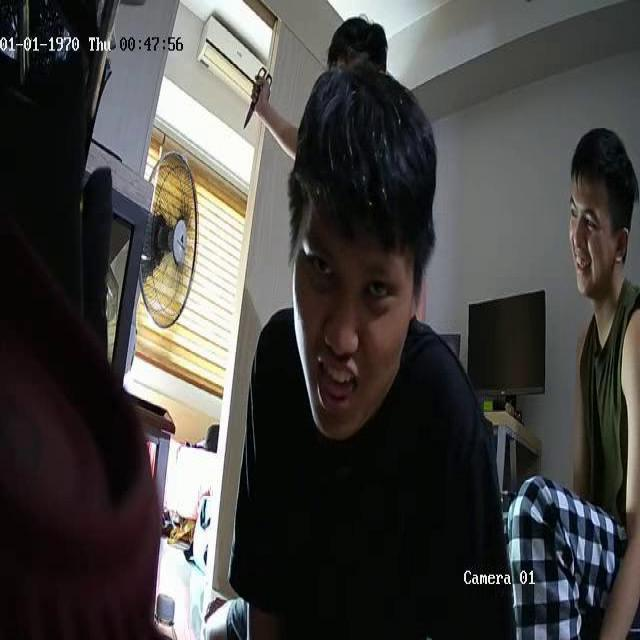scissor: (244, 68, 272, 126)
